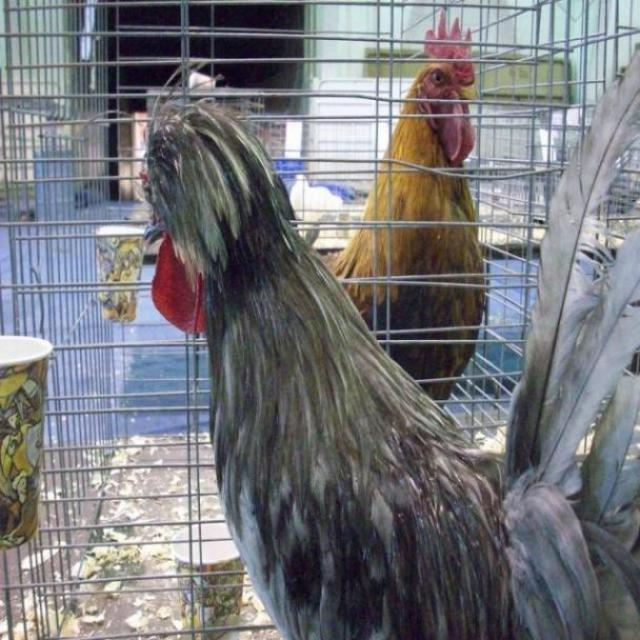Chicken: (79, 80, 640, 640), (314, 5, 484, 408)
